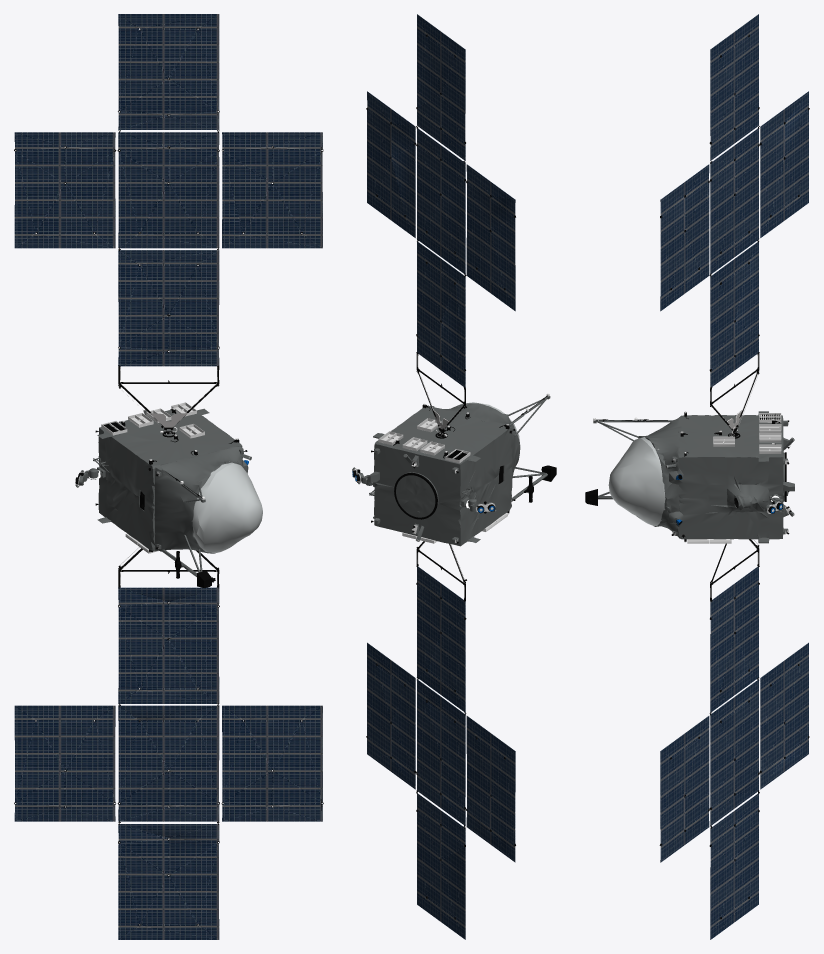
The model's file is psyche-sat.glb.
The picture shows the model from 3 angles, left to right: view 1: azimuth 30°, elevation 25°; view 2: azimuth 150°, elevation 25°; view 3: azimuth 270°, elevation 25°; orthographic projection. The views are drawn at different scales.
Parts seen in each view (by area): view 1: panels, body_2.001, germanium_cover.001, earthdeck_mli_tent_2.001, base_structure_Instance, Cube_4_32; view 2: panels, body_2.001, gold_base, base_structure_Instance, earthdeck_mli_tent_2.001, X_Cube_01_2, Cylinder_30, Cube_4_32, Cube_1_12_2; view 3: panels, body_2.001, germanium_cover.001, earthdeck_mli_tent_2.001, base_structure_Instance, Cylinder_30, Cube_4_32, X_Cube_01_2.
Boxes of the visible parts, x1,y1,x2,y2 form: panels: [14, 14, 322, 939]; body_2.001: [97, 408, 248, 551]; germanium_cover.001: [191, 461, 262, 552]; earthdeck_mli_tent_2.001: [154, 446, 247, 553]; base_structure_Instance: [125, 402, 204, 553]; Cube_4_32: [118, 369, 218, 584]; panels: [367, 14, 515, 939]; body_2.001: [373, 406, 512, 546]; gold_base: [396, 472, 438, 517]; base_structure_Instance: [378, 418, 507, 543]; earthdeck_mli_tent_2.001: [433, 403, 520, 478]; X_Cube_01_2: [353, 406, 511, 543]; Cylinder_30: [403, 396, 550, 541]; Cube_4_32: [416, 355, 465, 597]; Cube_1_12_2: [352, 450, 494, 519]; panels: [660, 14, 808, 939]; body_2.001: [669, 411, 783, 543]; germanium_cover.001: [608, 437, 665, 526]; earthdeck_mli_tent_2.001: [638, 418, 682, 537]; base_structure_Instance: [687, 424, 781, 543]; Cylinder_30: [593, 420, 794, 516]; Cube_4_32: [710, 355, 759, 597]; X_Cube_01_2: [672, 420, 794, 535].
Bounding box in the file's own units: 11.13 × 42.37 × 9.67.
Materials: 33 (1 with a texture image).
